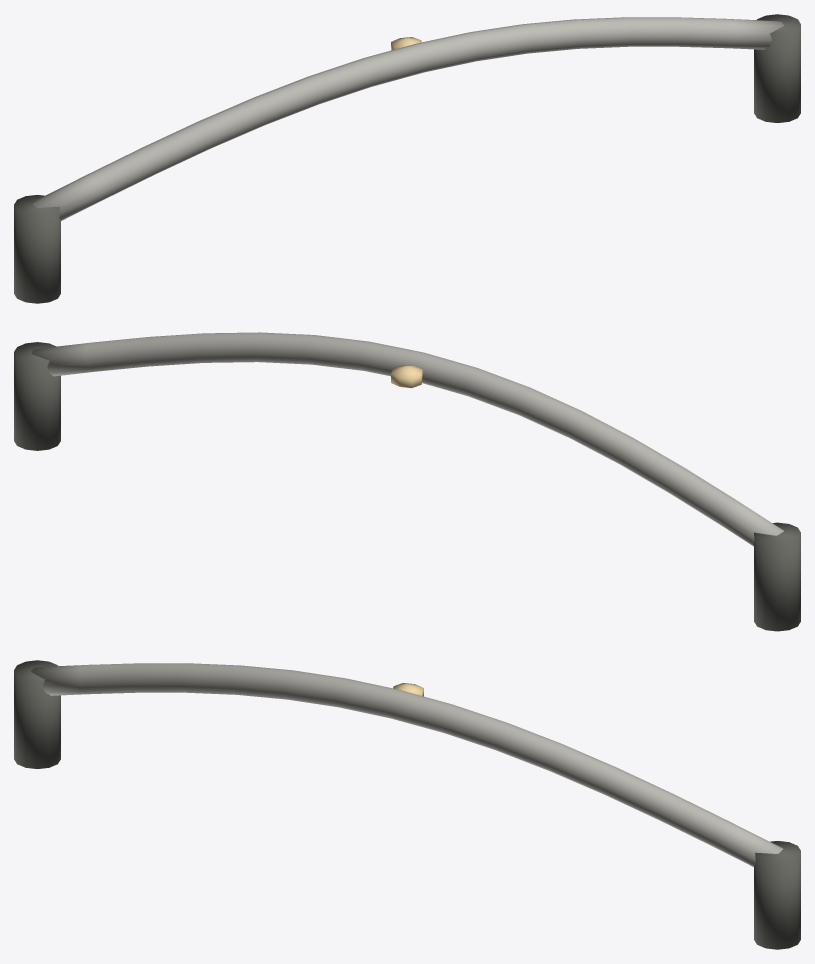
File: marker-stitch-01.glb
3 renders of one model, top to bottom at view 1: azimuth 30°, elevation 25°; view 2: azimuth 150°, elevation 25°; view 3: azimuth 330°, elevation 25°, orthographic.
Parts seen in each view (by area): view 1: default; view 2: default; view 3: default.
Boxes of the visible parts, <box> form: default: <box>14,14,800,303</box>; default: <box>14,332,800,631</box>; default: <box>14,660,800,949</box>.
Size of the model in its own units: 2.11 by 0.435 by 0.15.
